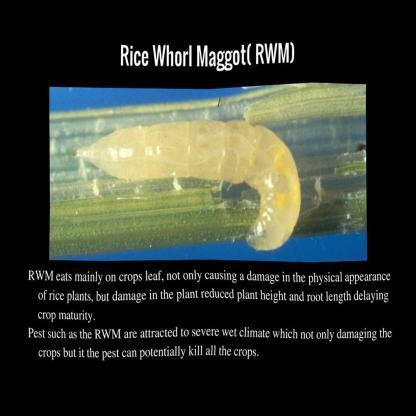whorl-maggot: (72, 118, 305, 255)
